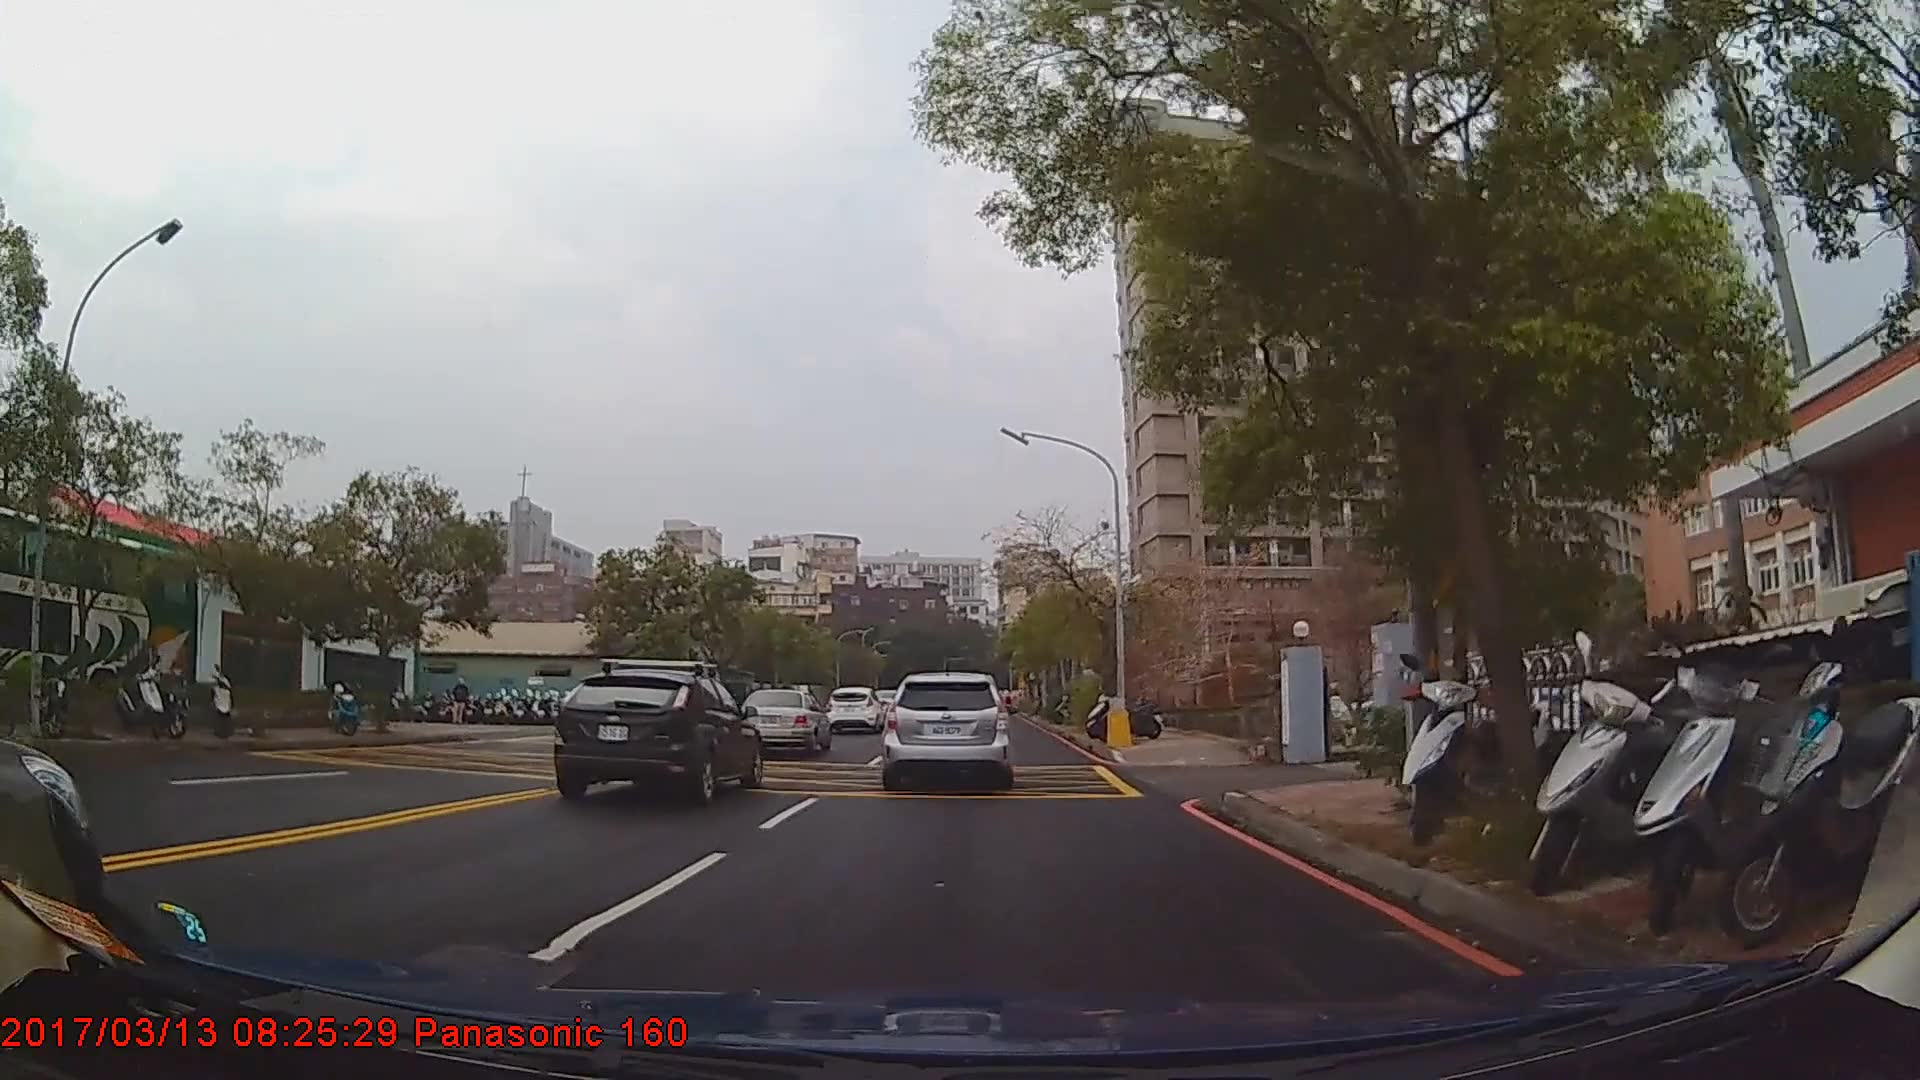pedestrian: (451, 680, 472, 727)
vehicle: (0, 504, 201, 730), (551, 668, 762, 807), (885, 670, 1010, 785), (736, 688, 828, 756), (824, 685, 884, 736)
